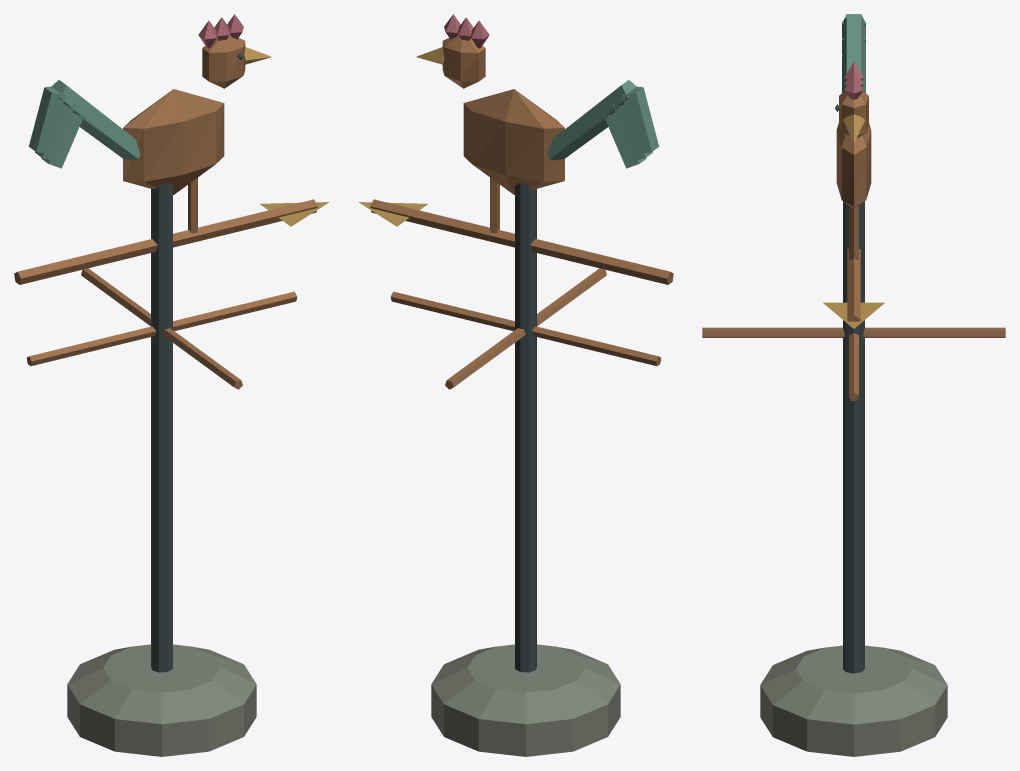
The model's file is decor_weathervane.glb.
3 views of the same model, side by side, from view 1: azimuth 30°, elevation 25°; view 2: azimuth 150°, elevation 25°; view 3: azimuth 270°, elevation 25° (orthographic).
Visible parts, largest first — view 1: geometry; view 2: geometry; view 3: geometry.
Boxes of the visible parts, left/top/right/bottom form: geometry: left=14, top=14, right=329, bottom=756; geometry: left=358, top=14, right=673, bottom=756; geometry: left=702, top=14, right=1005, bottom=756.
Bounding box in the file's own units: 0.8 × 1.68 × 0.68.
